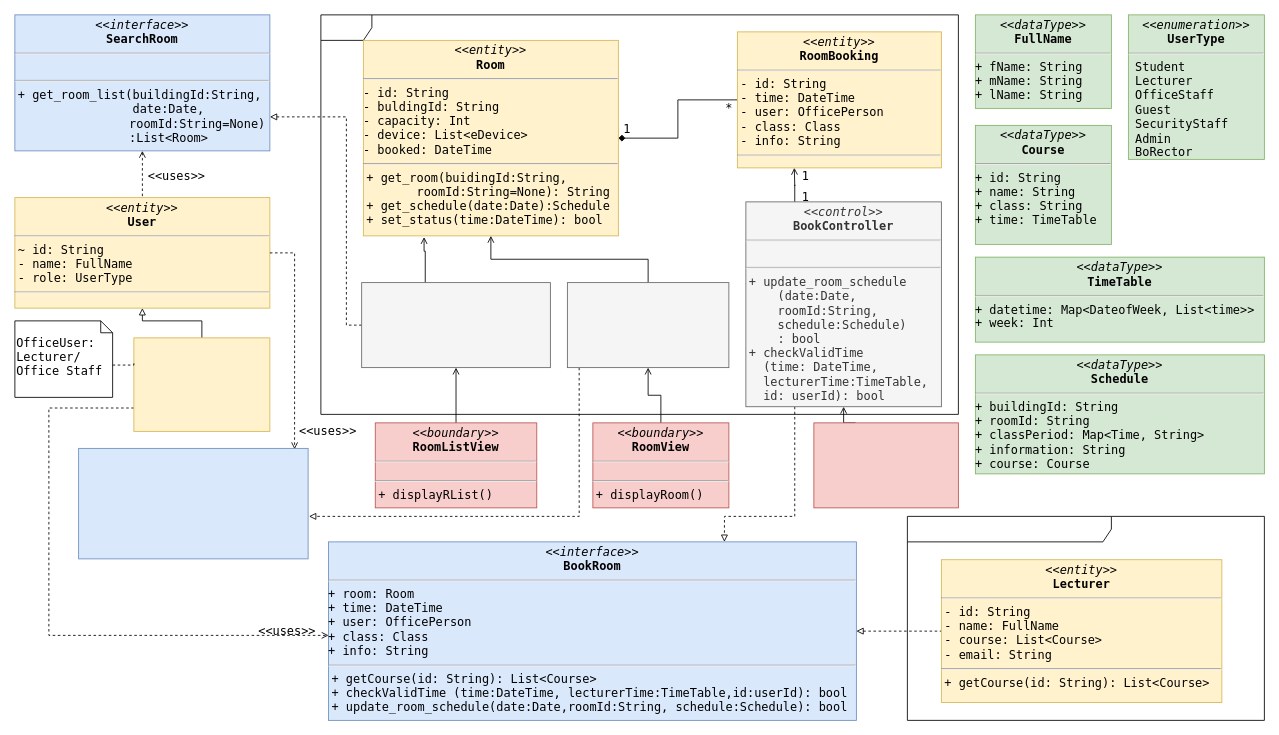
Image size: 1279x735. Some labels were removed from this diagram. Here are the shapes that lost their labels. From the top down, the box of each, then its label:
(320, 14, 958, 414): ROMS
(361, 282, 550, 368): <<control>> RoomListController + listRoom: List<Room>
(567, 282, 729, 368): <<control>> RoomController + room: Room
(133, 337, 270, 431): <<entity>> OfficeUser + getoId(): String
(813, 422, 958, 508): <<boundary>> RoomBookingView + displayRBooking()
(78, 448, 308, 559): <<interface>> ChooseRoom + get_room_schedule (date:Date, roomId:String):Schedule
(907, 516, 1264, 720): User Management System
